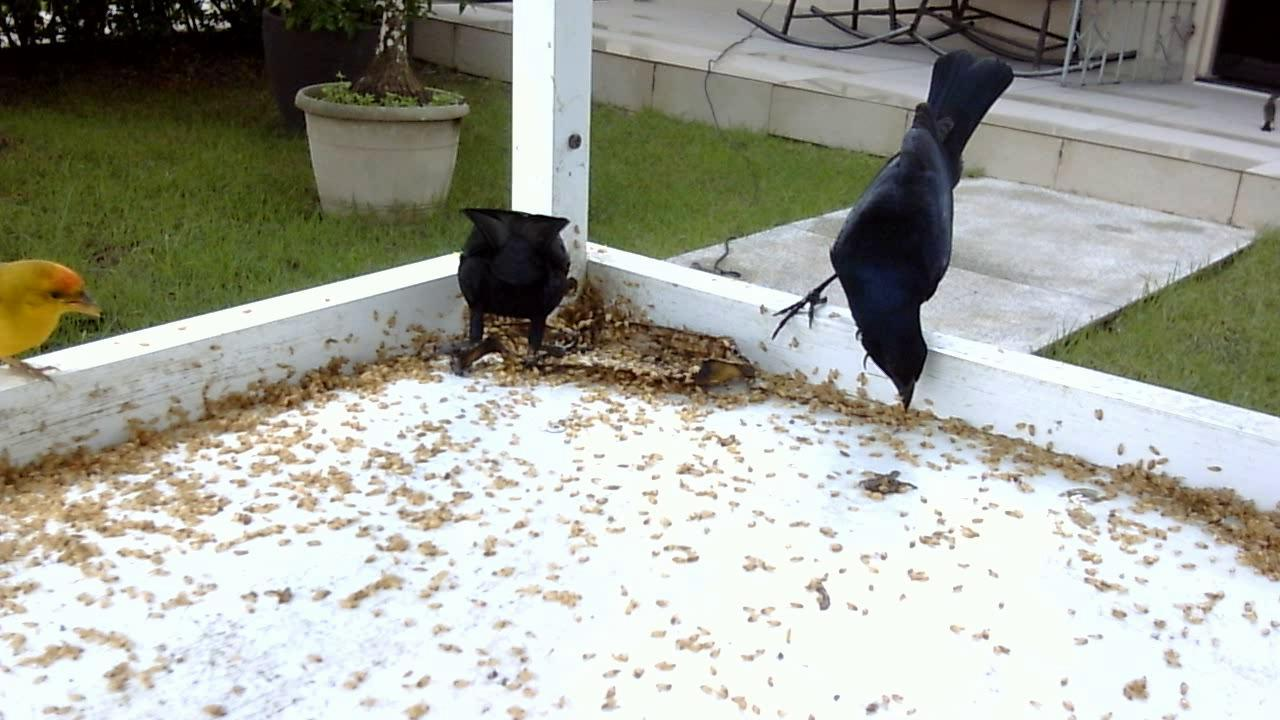canario_do_amazonas: (1, 255, 105, 395)
chupim: (747, 42, 1026, 419), (441, 211, 599, 379)
